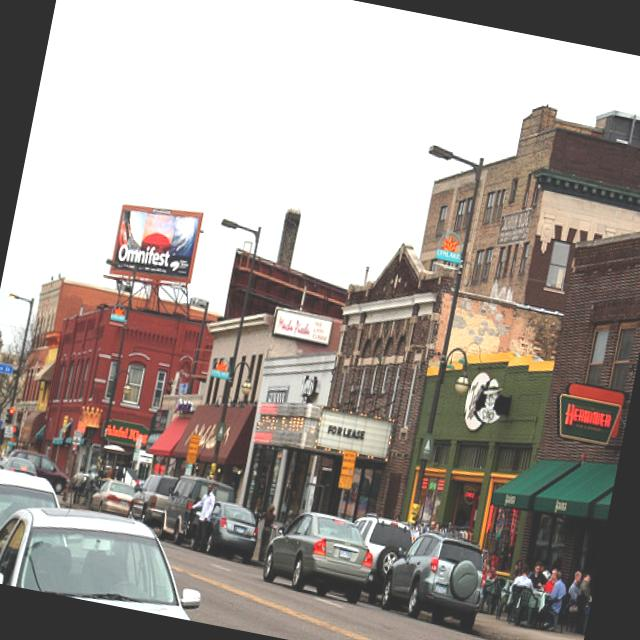Vehicle: (0, 488, 219, 623), (261, 501, 382, 606), (377, 530, 490, 634), (0, 457, 67, 592), (342, 514, 417, 606), (158, 472, 240, 554), (204, 502, 260, 566), (129, 470, 179, 527), (88, 478, 136, 518), (0, 452, 40, 479)
